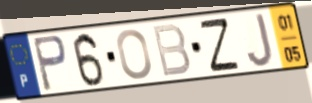6: (70, 30, 106, 88)
B: (150, 22, 193, 80)
J: (245, 11, 275, 69)
O: (115, 27, 154, 82)
P: (30, 33, 69, 93)
Z: (196, 15, 242, 74)
